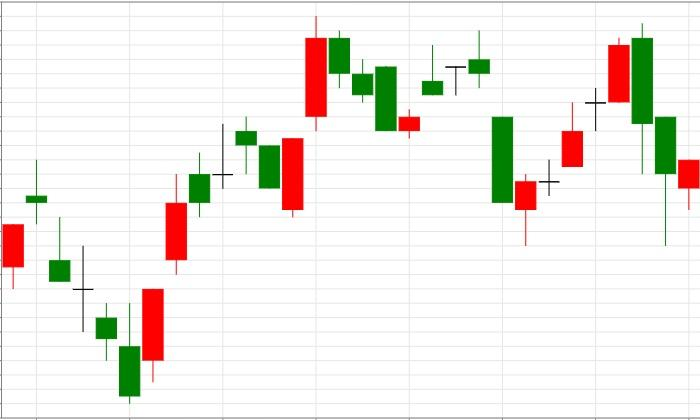bearish_engulfing_fall: (514, 22, 654, 246)
